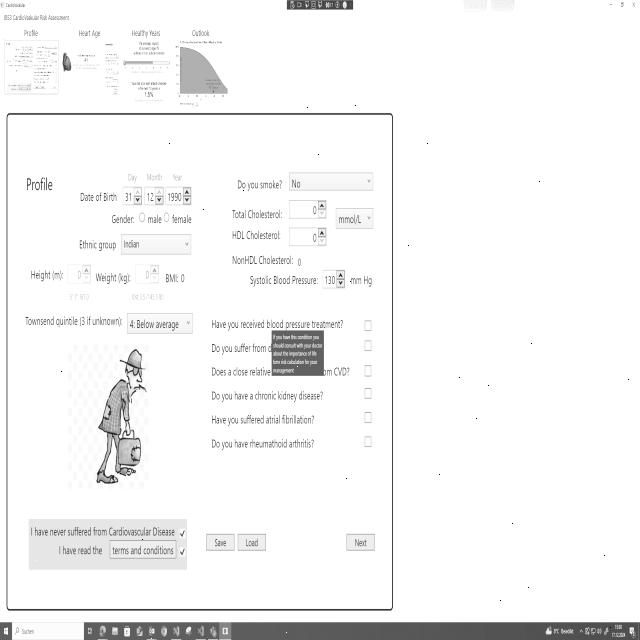button: (106, 539, 177, 563), (344, 529, 379, 556), (236, 529, 268, 555), (202, 530, 235, 554), (614, 0, 628, 17), (627, 0, 640, 16), (606, 0, 616, 15)
checkbox: (363, 385, 373, 402), (364, 318, 373, 334), (364, 435, 373, 451), (178, 526, 188, 540), (364, 362, 372, 379), (364, 338, 372, 354), (364, 410, 372, 425), (178, 546, 186, 560)
dropdownMenu: (288, 166, 377, 195), (125, 307, 196, 337), (120, 232, 193, 257), (334, 205, 377, 232)
input: (12, 622, 84, 640)
label: (31, 519, 176, 538), (18, 309, 124, 328), (211, 388, 330, 404), (208, 436, 325, 452), (208, 412, 322, 428), (21, 164, 64, 200), (229, 254, 310, 269), (232, 174, 287, 196), (247, 272, 320, 288), (56, 543, 103, 567), (210, 314, 265, 332), (77, 185, 118, 209), (207, 342, 268, 358), (230, 227, 286, 244), (23, 264, 66, 286), (349, 262, 382, 290), (227, 206, 284, 220), (208, 367, 268, 380), (164, 266, 195, 290), (78, 235, 117, 254), (94, 268, 134, 286), (2, 14, 71, 24), (130, 22, 166, 38), (64, 289, 95, 305), (131, 292, 166, 306), (108, 211, 136, 228), (172, 211, 194, 228), (334, 361, 351, 382), (74, 26, 102, 38), (142, 169, 166, 183), (188, 26, 215, 38), (168, 168, 186, 184), (22, 26, 40, 39), (146, 213, 162, 227), (124, 168, 138, 182)
radio: (162, 211, 171, 223), (138, 211, 146, 224)
upDown: (287, 196, 330, 223), (288, 225, 329, 248), (66, 259, 92, 286), (321, 264, 346, 292), (135, 262, 161, 288), (165, 186, 194, 208), (121, 185, 143, 208), (144, 186, 164, 207)
